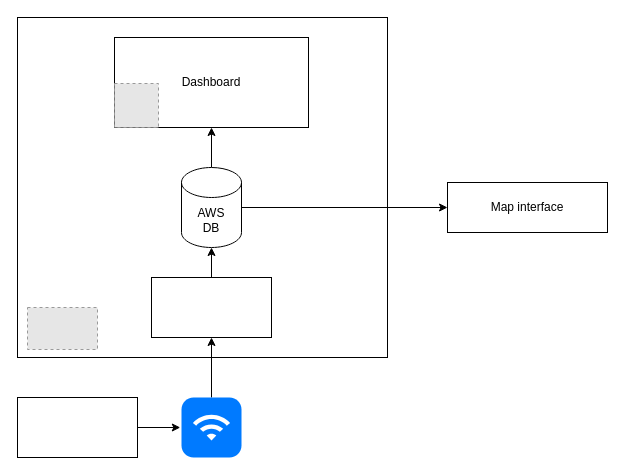
Some shapes in this 625 by 475 pixel diagram are drawn without their labels. Grey dashed boxes stand in for pictures. Each missing label, with the centre of its shape:
"ESP32 + SDS011" belongs at point 77,427.
"Function DB ingest" belongs at point 211,307.
